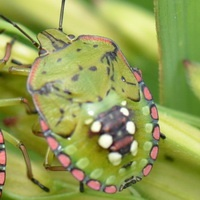insect: (0, 0, 163, 196)
